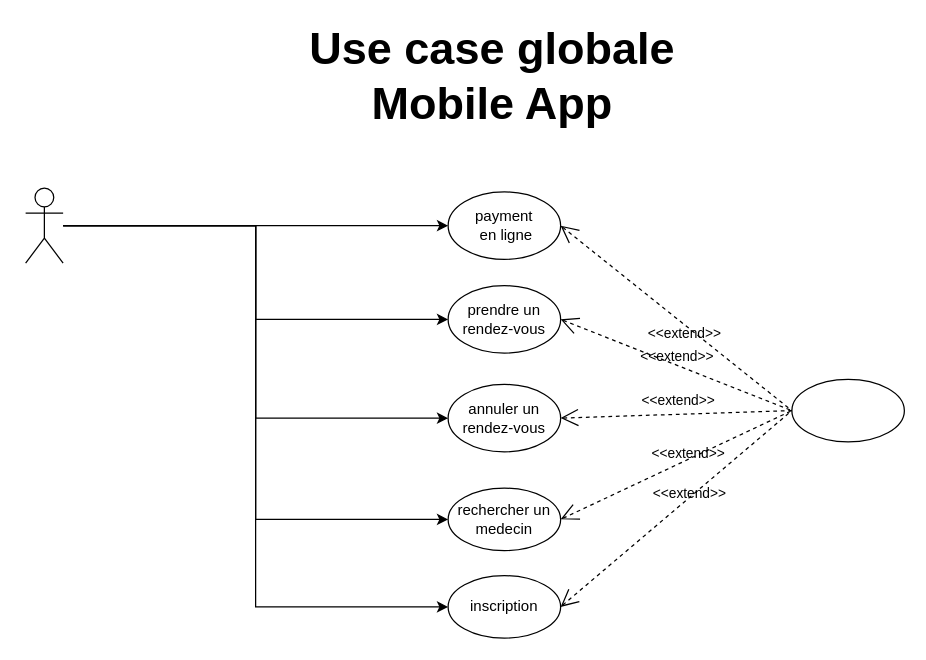
Image size: 926x660. Some labels were removed from this diagram. Here are the shapes that lost their labels. From the top down, the centre of each, then its label:
At pixel 43 225: "Patient".
At pixel 847 410: "login".
